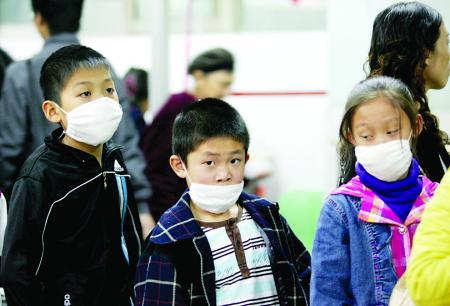NONE: (419, 28, 450, 92), (209, 67, 234, 100)
OK: (61, 75, 123, 144), (355, 117, 412, 179)
WRONG: (188, 145, 247, 211)
